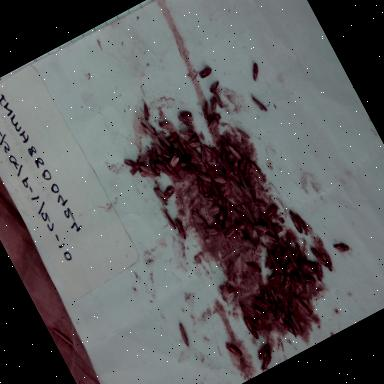pbw: (156, 204, 179, 236), (236, 300, 258, 331), (252, 338, 276, 364), (292, 292, 314, 320), (174, 320, 196, 348), (248, 160, 270, 188), (171, 214, 192, 243), (210, 204, 233, 230), (160, 156, 181, 184), (310, 258, 331, 286), (235, 167, 255, 196), (136, 159, 159, 184), (240, 314, 260, 342), (284, 206, 304, 234), (175, 108, 197, 133), (205, 180, 226, 206), (207, 140, 226, 168), (222, 261, 244, 285), (248, 90, 268, 116), (250, 299, 270, 325), (319, 248, 339, 274), (228, 176, 248, 202), (196, 98, 216, 124), (261, 286, 281, 312), (309, 244, 329, 270), (236, 176, 255, 203), (288, 311, 307, 338), (268, 302, 290, 325), (204, 114, 226, 137), (293, 210, 311, 238), (231, 121, 252, 145), (151, 184, 171, 209), (226, 140, 246, 165), (238, 232, 259, 255), (138, 115, 158, 139), (200, 138, 220, 162), (224, 338, 244, 362), (267, 250, 285, 276), (267, 286, 285, 312), (194, 60, 215, 82), (330, 234, 351, 256), (240, 200, 258, 225), (152, 132, 170, 157), (231, 218, 249, 243), (202, 221, 222, 243), (276, 245, 296, 267), (276, 294, 296, 316), (154, 158, 174, 180), (255, 352, 277, 372), (244, 256, 264, 278), (248, 310, 268, 332), (156, 127, 174, 151), (132, 156, 150, 180), (252, 217, 272, 238), (299, 256, 318, 278), (246, 60, 265, 82), (279, 230, 298, 252), (138, 100, 156, 123), (184, 156, 201, 180), (284, 246, 301, 270), (164, 150, 184, 170), (145, 144, 163, 166), (255, 294, 273, 316), (286, 298, 304, 320), (210, 89, 227, 112), (268, 244, 287, 264), (300, 267, 318, 288), (204, 92, 222, 113), (201, 158, 218, 180), (191, 206, 208, 228), (160, 185, 179, 204), (261, 226, 279, 246), (196, 167, 214, 187), (227, 155, 245, 175), (262, 203, 282, 221), (238, 160, 256, 180), (234, 152, 252, 172), (288, 242, 306, 262), (279, 273, 296, 294), (194, 144, 211, 165), (226, 200, 243, 221), (176, 136, 192, 158), (282, 320, 298, 342), (220, 198, 236, 220), (218, 132, 234, 154), (216, 280, 235, 298), (250, 194, 268, 213), (279, 260, 298, 278), (121, 152, 139, 171), (211, 170, 229, 189), (221, 225, 240, 243), (216, 150, 233, 170), (294, 266, 310, 287), (192, 176, 208, 197), (156, 116, 174, 134), (260, 252, 278, 270), (220, 160, 238, 178), (182, 130, 201, 147), (188, 210, 204, 230), (290, 271, 306, 291), (258, 288, 274, 308), (172, 136, 186, 158), (258, 208, 272, 230), (186, 135, 204, 152), (205, 77, 223, 94), (207, 201, 224, 219), (284, 275, 300, 294), (126, 160, 144, 176), (178, 104, 194, 122), (144, 152, 160, 170), (174, 156, 192, 172), (135, 148, 152, 164), (165, 130, 182, 146), (177, 125, 193, 142), (215, 184, 230, 202), (148, 138, 163, 156), (206, 110, 223, 125), (232, 219, 249, 234), (188, 144, 202, 162), (264, 222, 278, 240), (168, 144, 183, 160), (268, 270, 284, 285), (202, 190, 219, 204), (284, 298, 297, 316), (182, 164, 196, 180), (271, 222, 284, 236)
